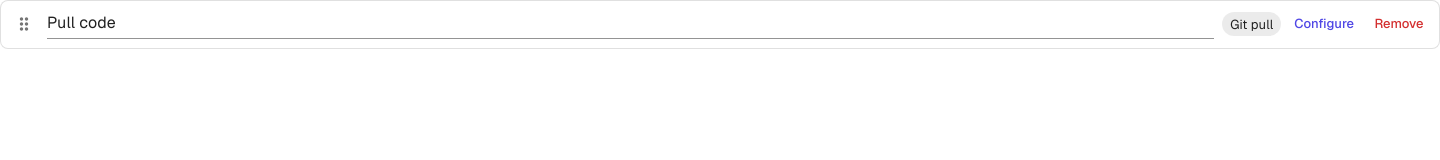
StepCard › expands to show the config form when Configure is clicked
Click the button with test id "step-toggle-configure" at (1324, 24), box [1289, 9, 1359, 40]
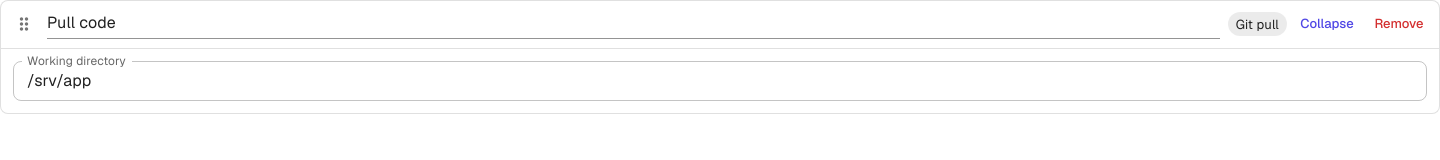
expect the field showing "/srv/app" is shown: met, box [13, 61, 1427, 101]
